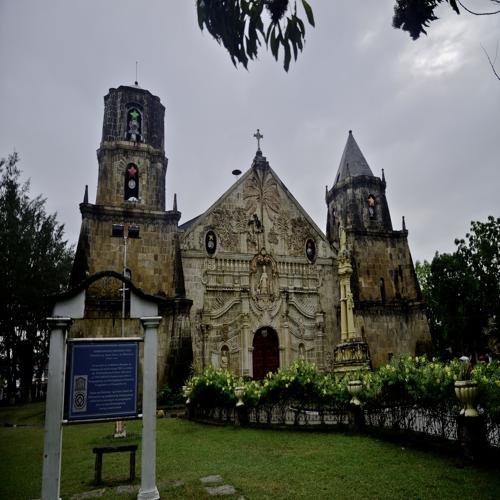Miagao Church: (55, 60, 445, 388)
